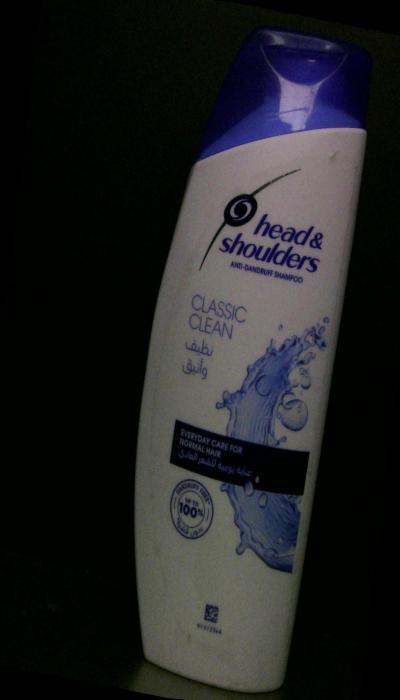tear_marg: (139, 516, 181, 578), (314, 131, 354, 177)
